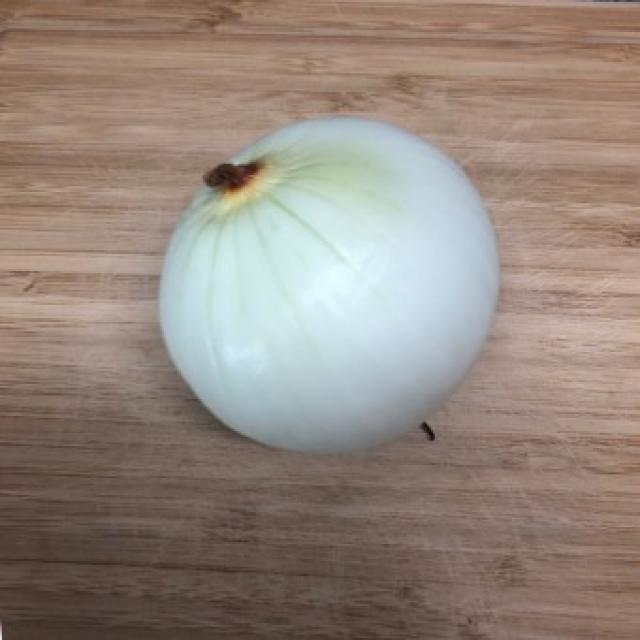onion: (130, 112, 536, 475)
